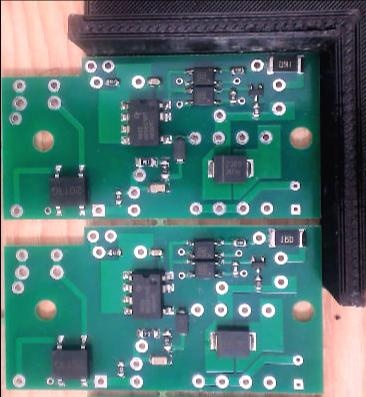chip-capacitor: (147, 354, 171, 366), (146, 182, 171, 193), (145, 75, 162, 86), (147, 246, 162, 256)
chip-resistor: (267, 227, 307, 249), (264, 54, 304, 75), (158, 156, 170, 181), (135, 326, 160, 338), (133, 156, 158, 167), (161, 327, 172, 352), (105, 246, 122, 257), (113, 187, 123, 205), (230, 237, 246, 247), (229, 260, 239, 276), (253, 273, 262, 290), (104, 77, 119, 87), (229, 65, 245, 74), (116, 360, 124, 378), (251, 102, 259, 119), (228, 88, 236, 105)
diode: (205, 152, 254, 184), (208, 329, 257, 358), (175, 306, 189, 336), (172, 134, 186, 164)
ic: (121, 269, 174, 319), (118, 97, 172, 145), (49, 332, 88, 388), (49, 163, 87, 216), (184, 237, 225, 258), (185, 258, 223, 280), (183, 66, 222, 86), (183, 87, 222, 106)
transistor: (247, 81, 263, 103), (250, 253, 265, 274)
